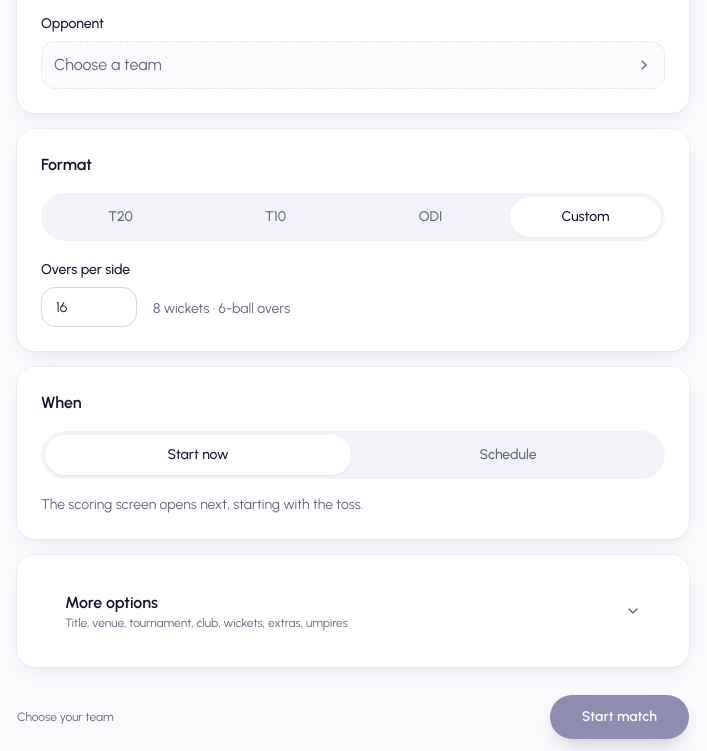
Scenario: New match form › starts a tournament match with the tournament's overs and wickets
(page scrolled)
expect the number field labelled "Overs per side" holds "16": met, box [41,287,137,327]
Click the button "More options" at (111, 602), box [41,579,665,643]
(page scrolled)
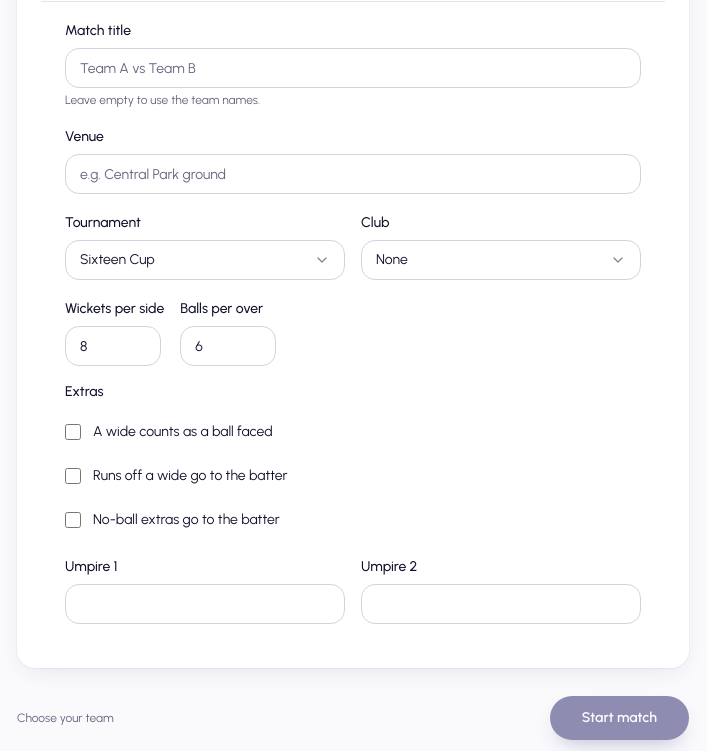
expect the number field labelled "Wickets per side" holds "8": met, box [65,326,161,366]
